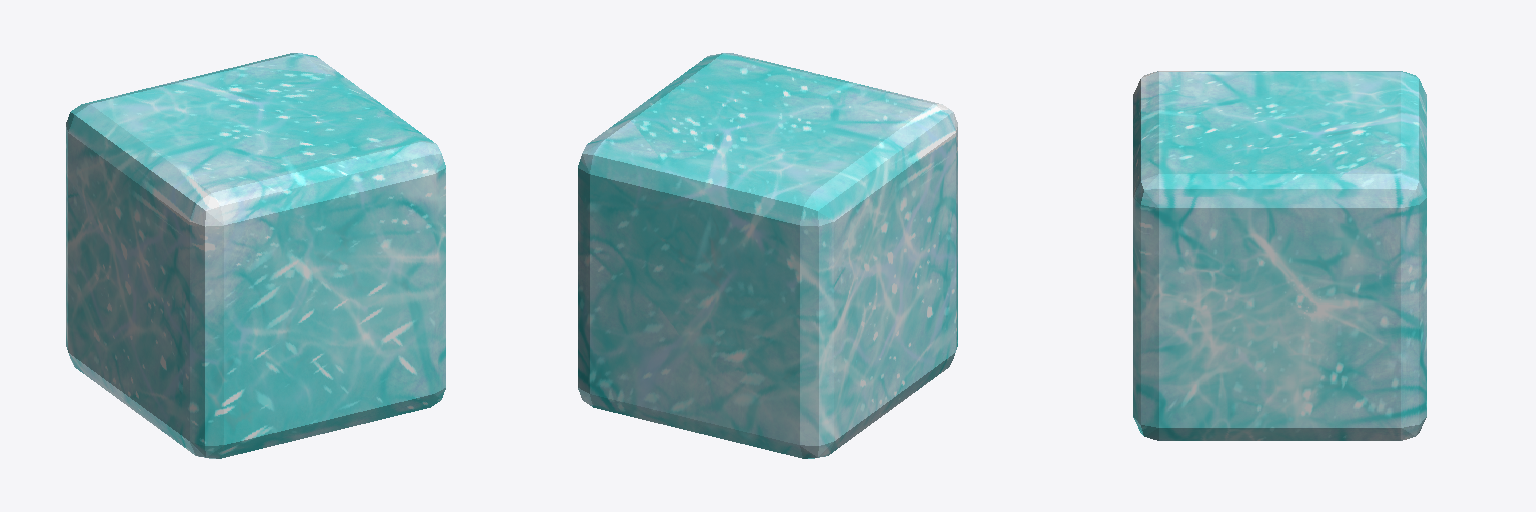
3 views of the same model, side by side, from view 1: azimuth 30°, elevation 25°; view 2: azimuth 150°, elevation 25°; view 3: azimuth 270°, elevation 25° (orthographic).
Parts seen in each view (by area): view 1: STONE_L_STONE_L; view 2: STONE_L_STONE_L; view 3: STONE_L_STONE_L.
Part boxes in pixels (x1,y1,x2,y2): STONE_L_STONE_L: (66,53,445,458); STONE_L_STONE_L: (578,53,957,458); STONE_L_STONE_L: (1133,71,1426,440).
Bounding box in the file's own units: 1000 × 1000 × 1000.
Materials: 1 (1 with a texture image).